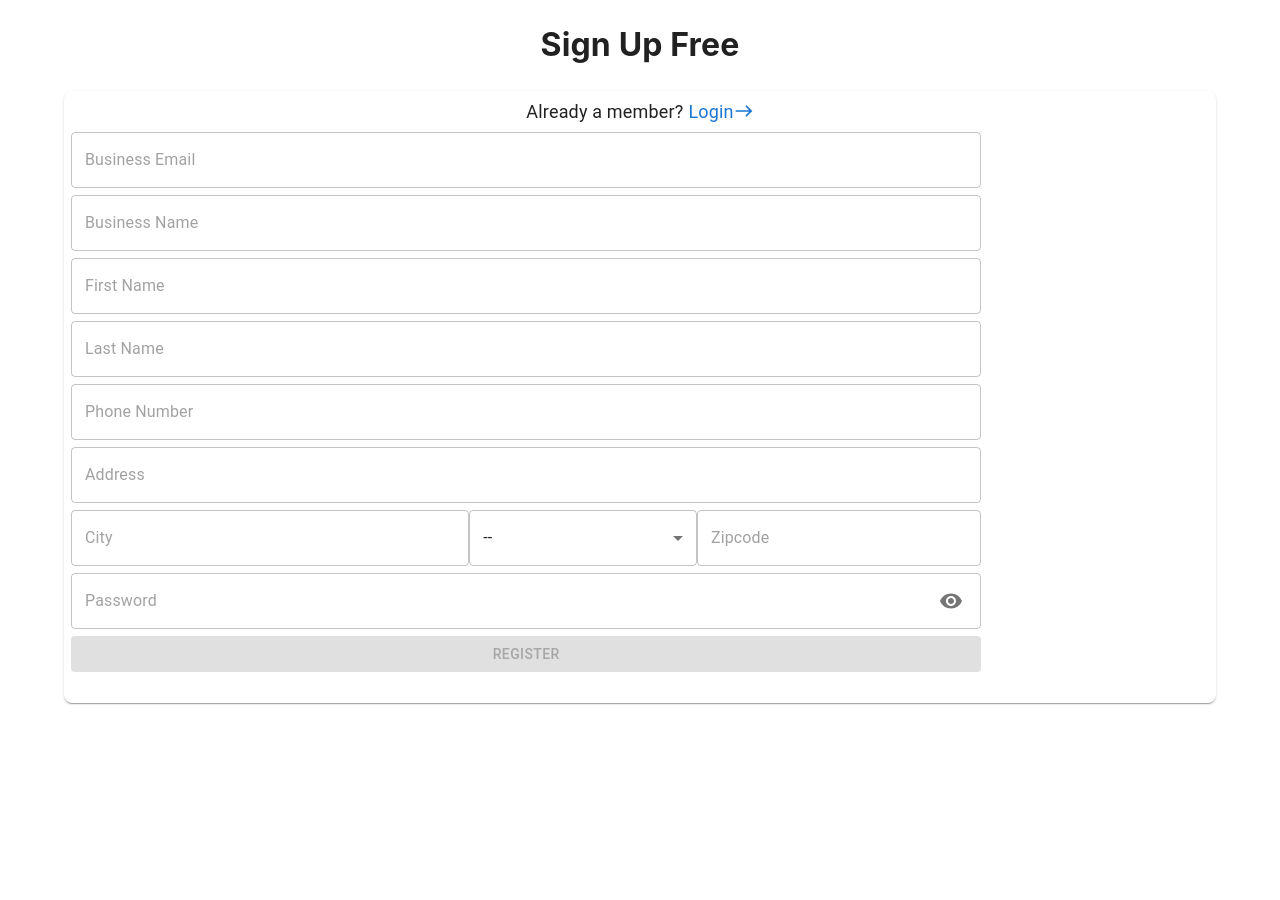
Scenario: Sign Up Route Test › Should show password is too short error message
In the password field with placeholder "Password": (501,601) [71,573,931,629], type "foo"
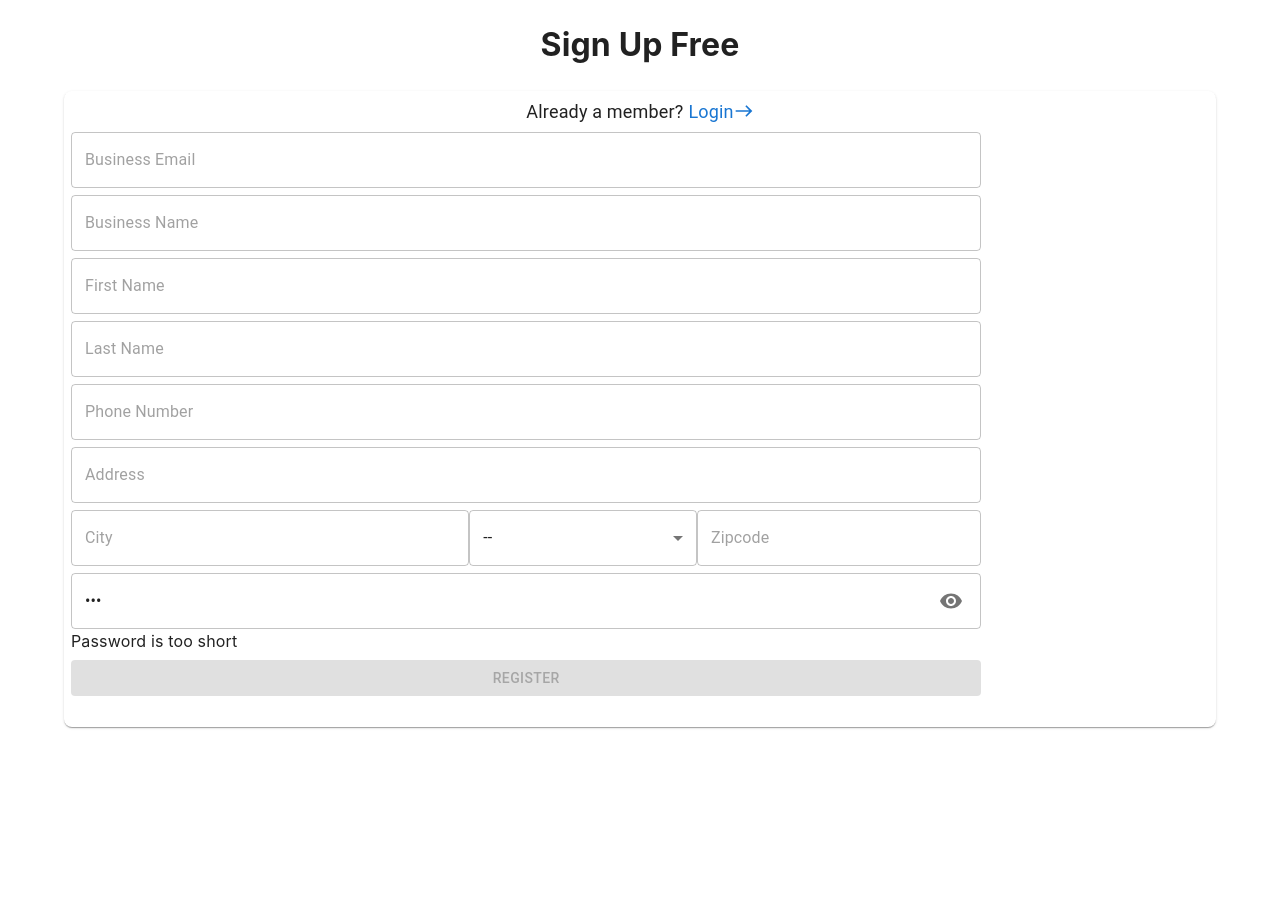
Now the text with test id "invalid-password-message" reads "Password is too short", box [71,631,237,651]
